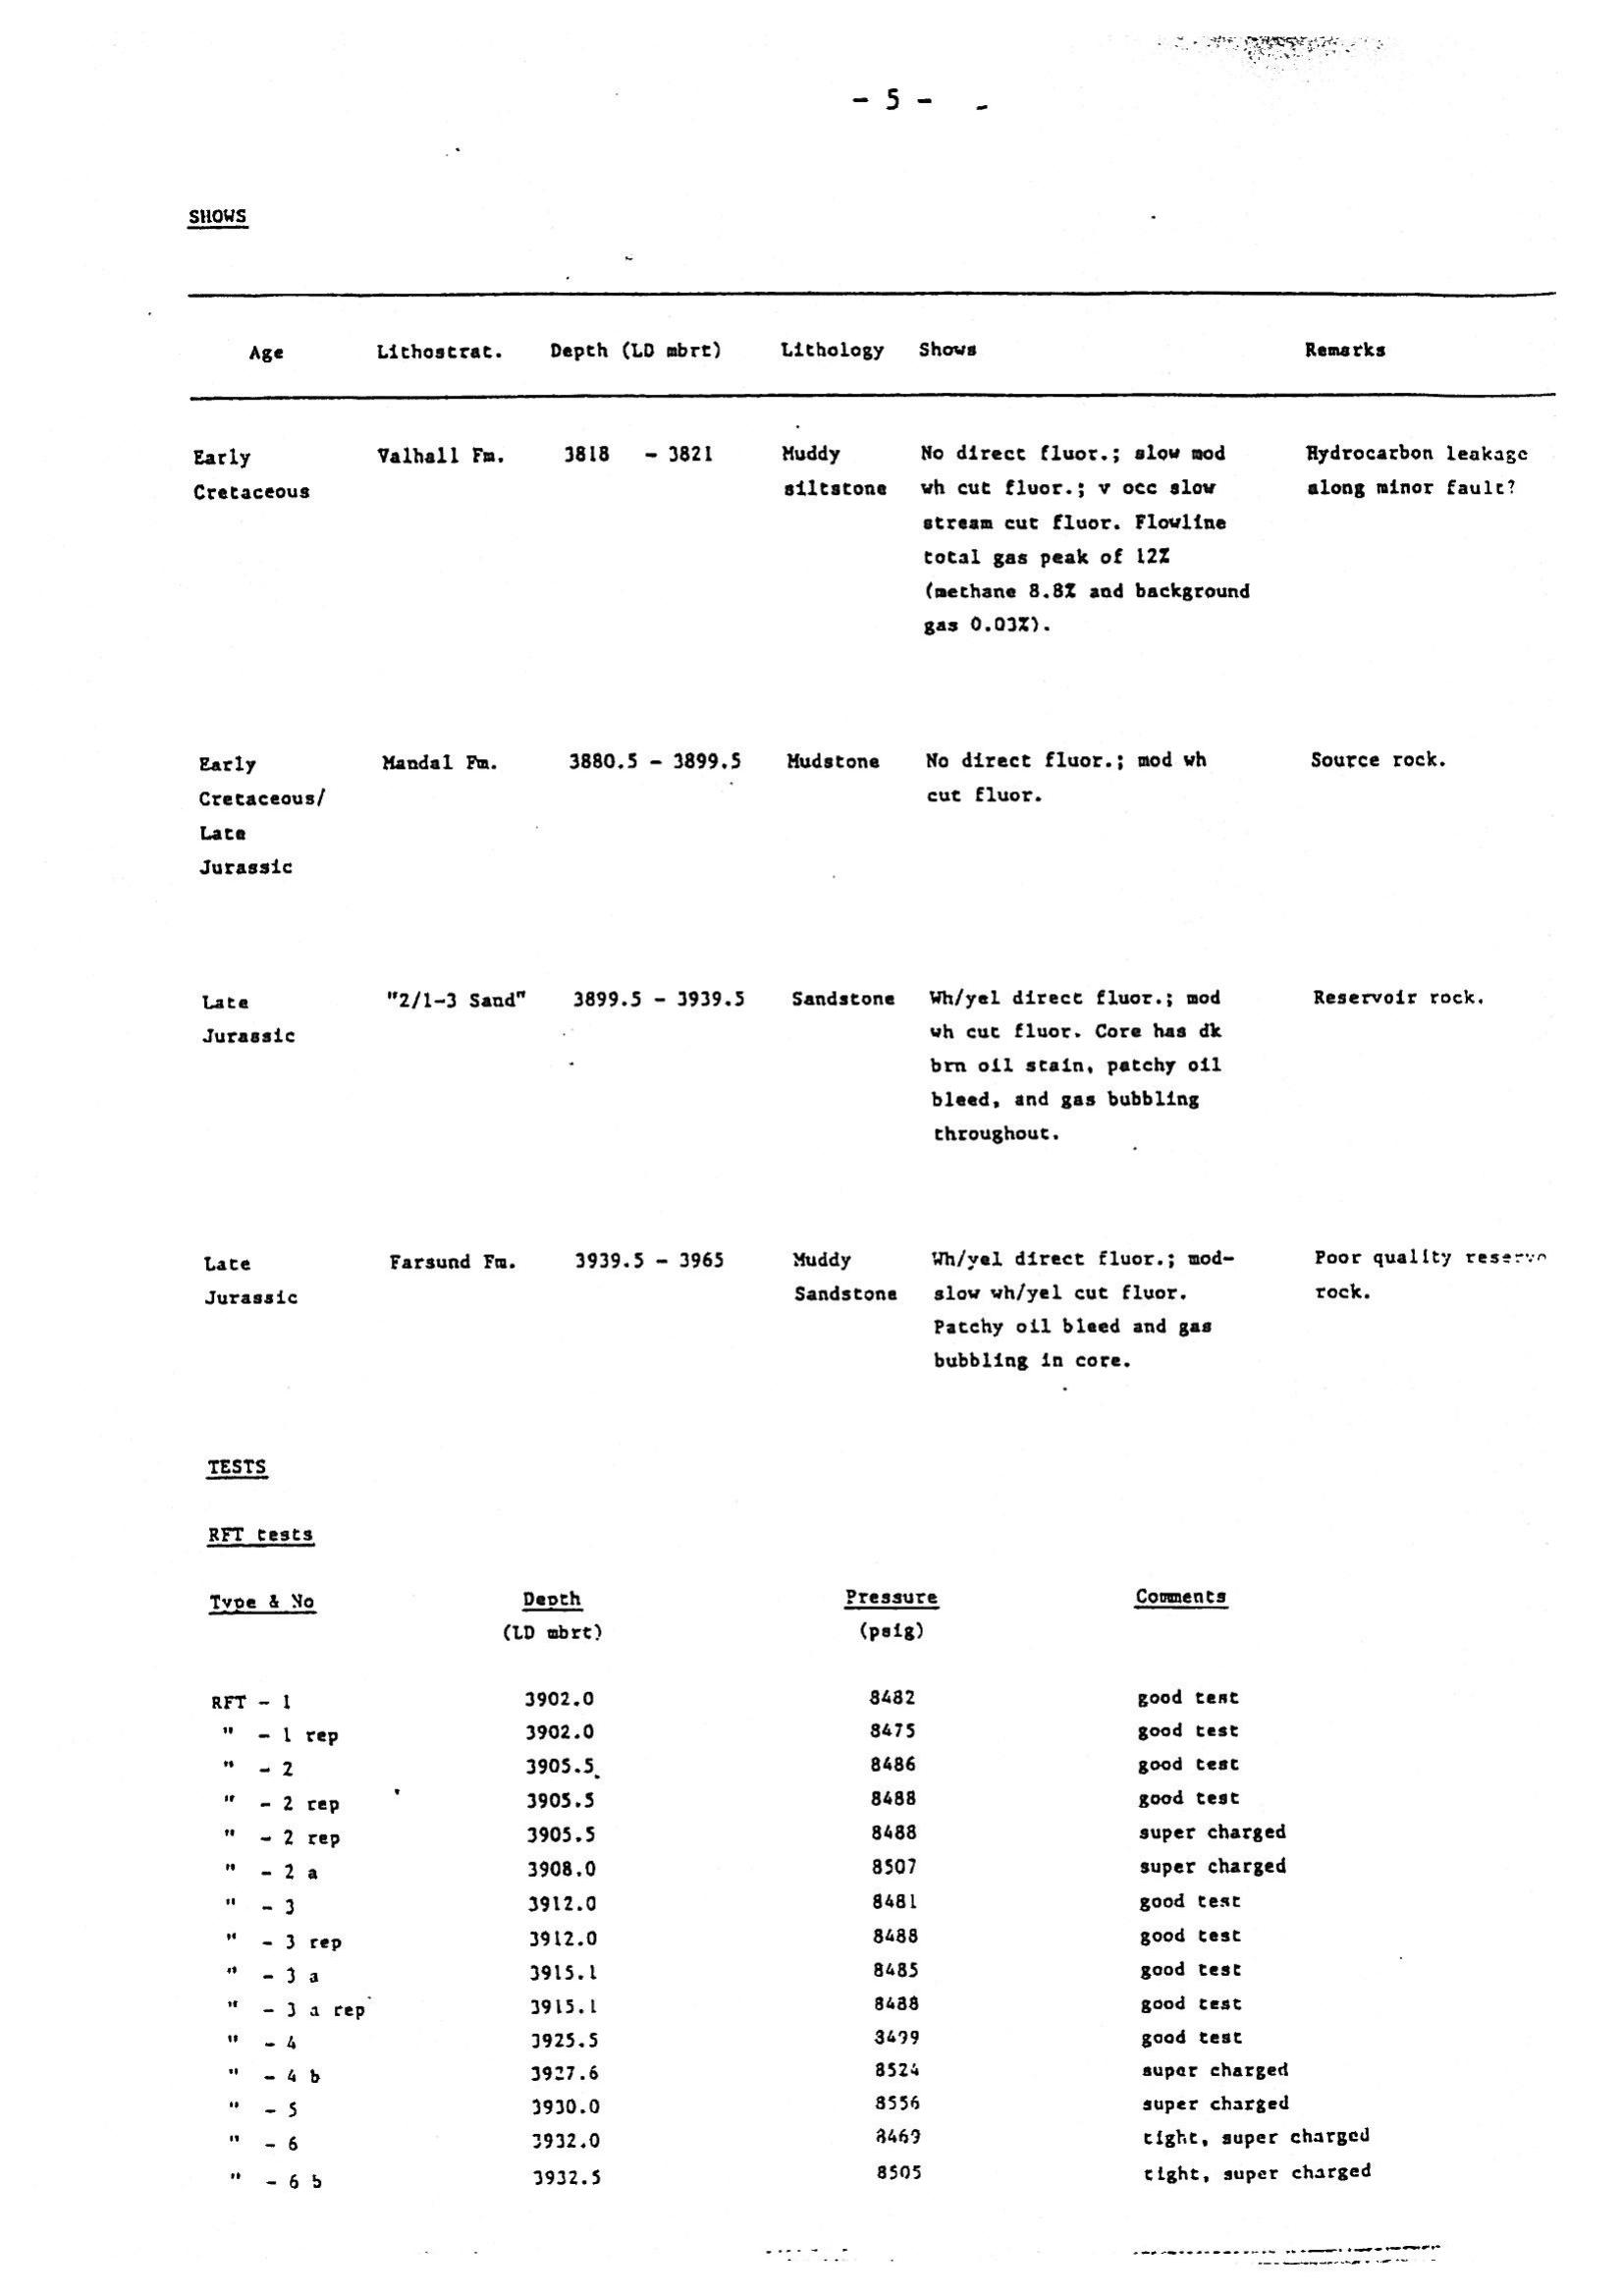table: (137, 155, 1584, 1423), (156, 1509, 1444, 2212)
text: (126, 1442, 314, 1497)
